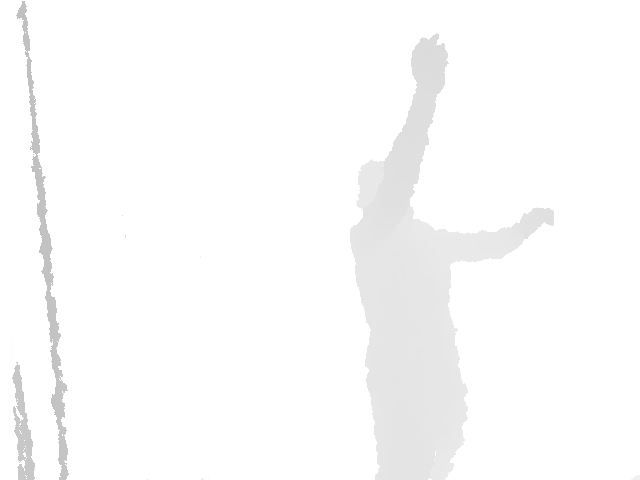hand: (410, 33, 450, 98)
hand_down: (521, 206, 556, 244)
head: (356, 159, 403, 220)
person: (348, 33, 556, 480)
